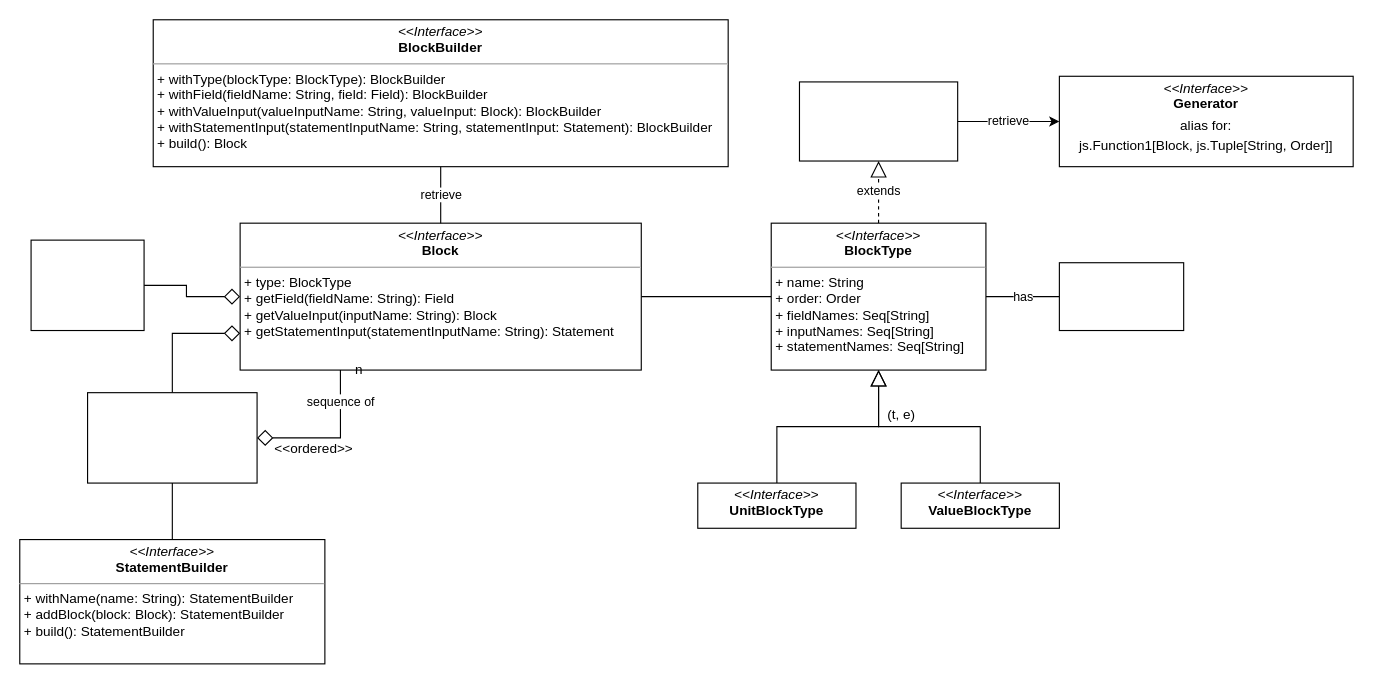
This 1373x684 diagram has some shape labels left out. Here are the shapes that lost their labels. From the top down, the centre of each, then its label:
At [878,121]: "<<Interface>> Generable + generator: Generator".
At [87,285]: "<<Interface>> Field + name: String + value: String".
At [1121,296]: "<<Interface>> Order alias for: Double".
At [171,437]: "<<Interface>> Statement + name: String + blocks: Seq[Block]".
